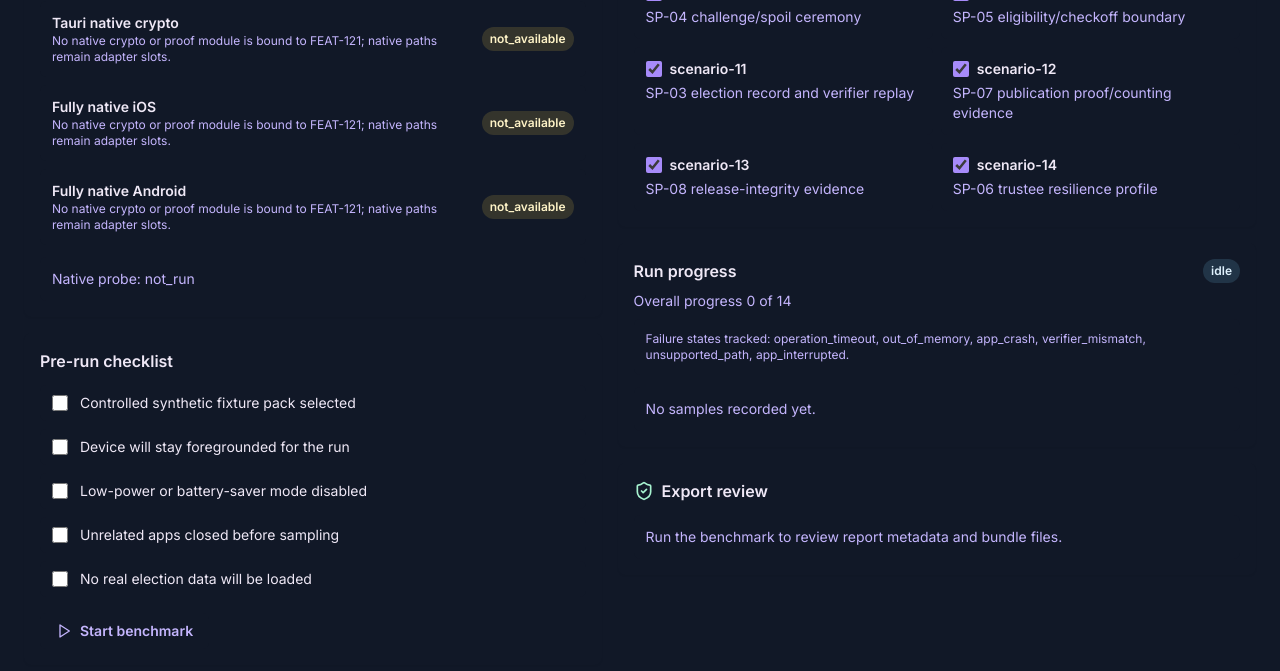
MobileBenchmarkRunner › keeps unavailable implementation paths visible without enabling a performance run
The image size is (1280, 671).
(page scrolled)
Step 1. Click the checkbox labelled "Controlled synthetic fixture pack selected" → point(60, 403), box [52,395,68,411]
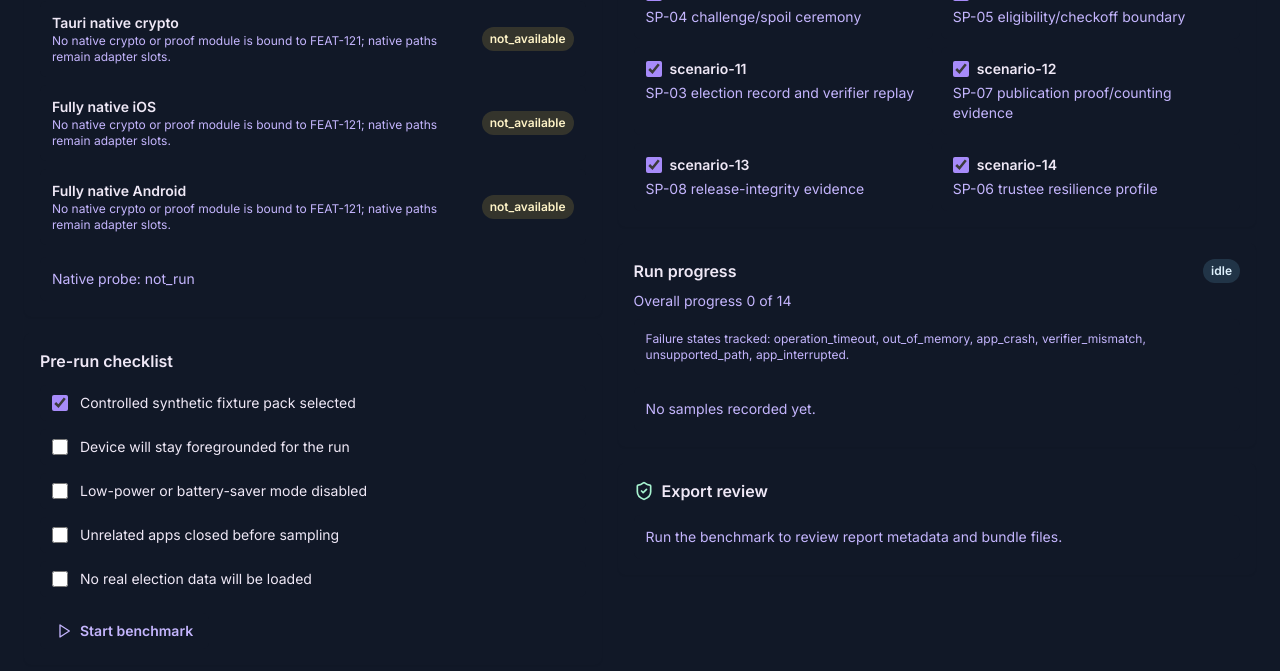
Step 2. Click the checkbox labelled "Device will stay foregrounded for the run" → point(60, 447), box [52,439,68,455]
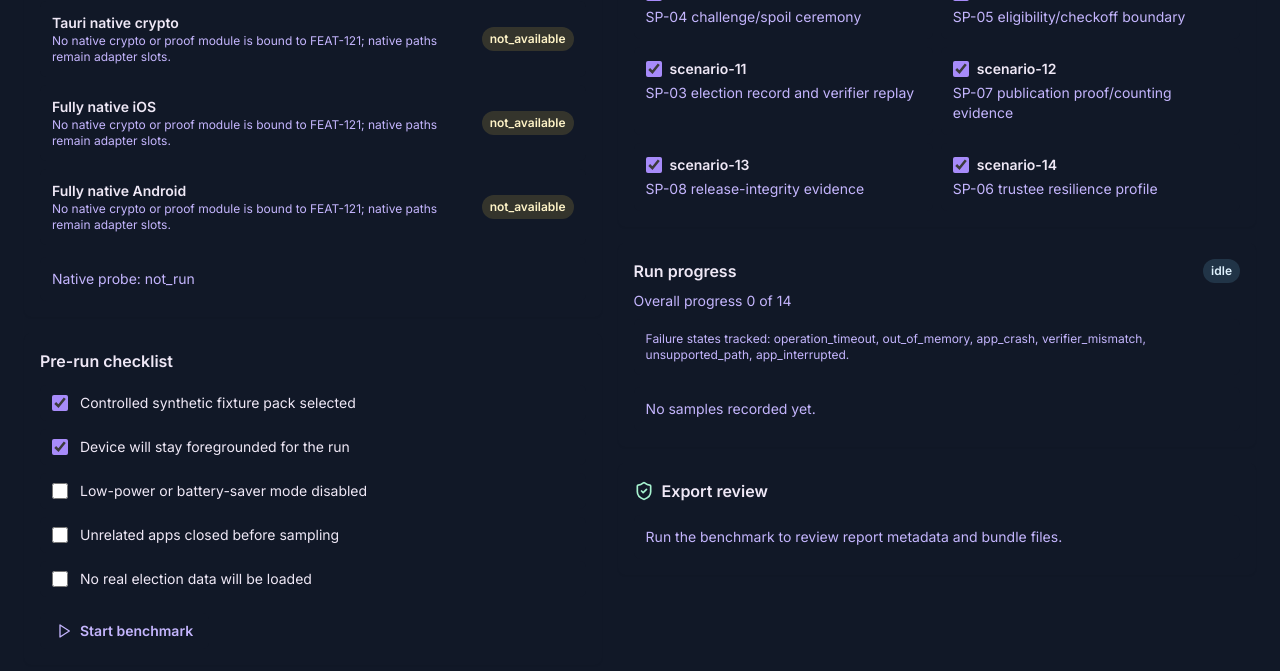
Step 3. Click the checkbox labelled "Low-power or battery-saver mode disabled" → point(60, 491), box [52,483,68,499]
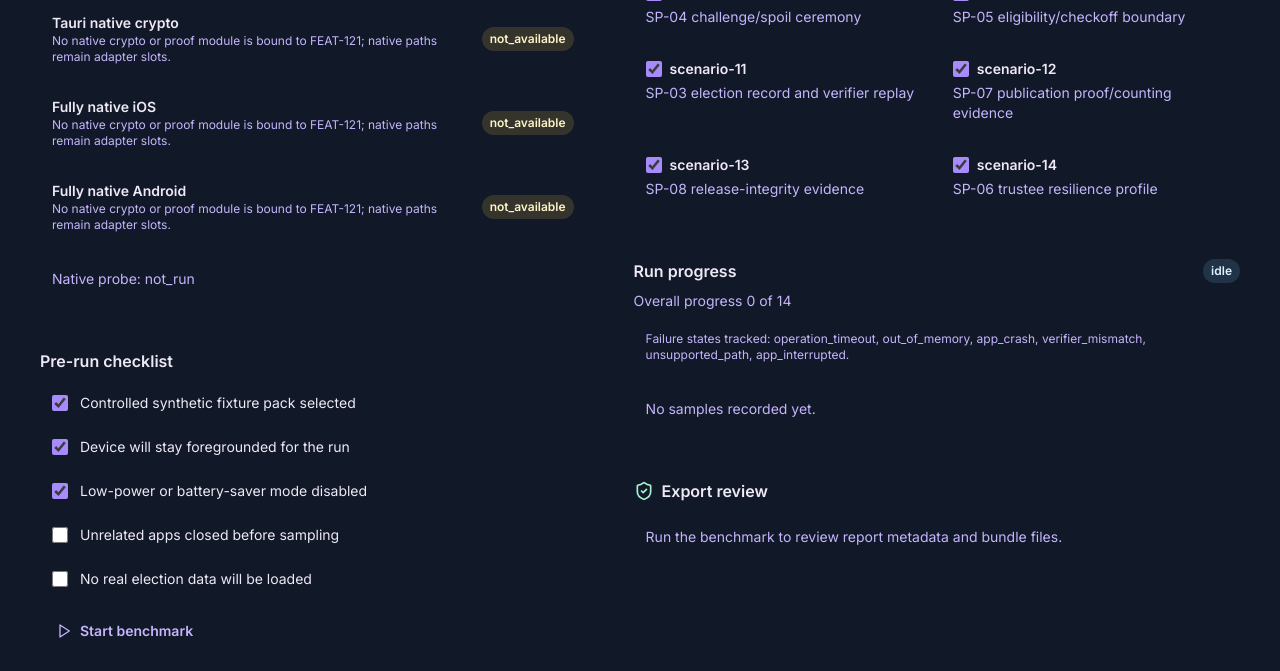
Step 4. Click the checkbox labelled "Unrelated apps closed before sampling" → point(60, 535), box [52,527,68,543]
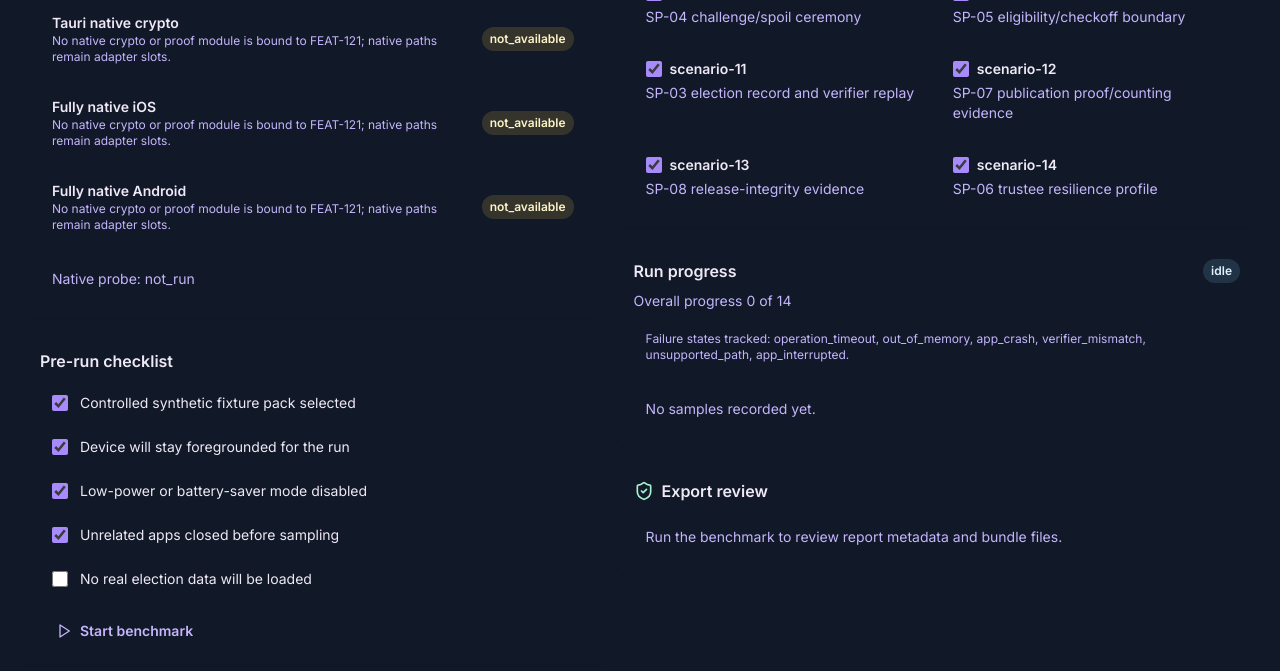
Step 5. Click the checkbox labelled "No real election data will be loaded" → point(60, 579), box [52,571,68,587]
(page scrolled)
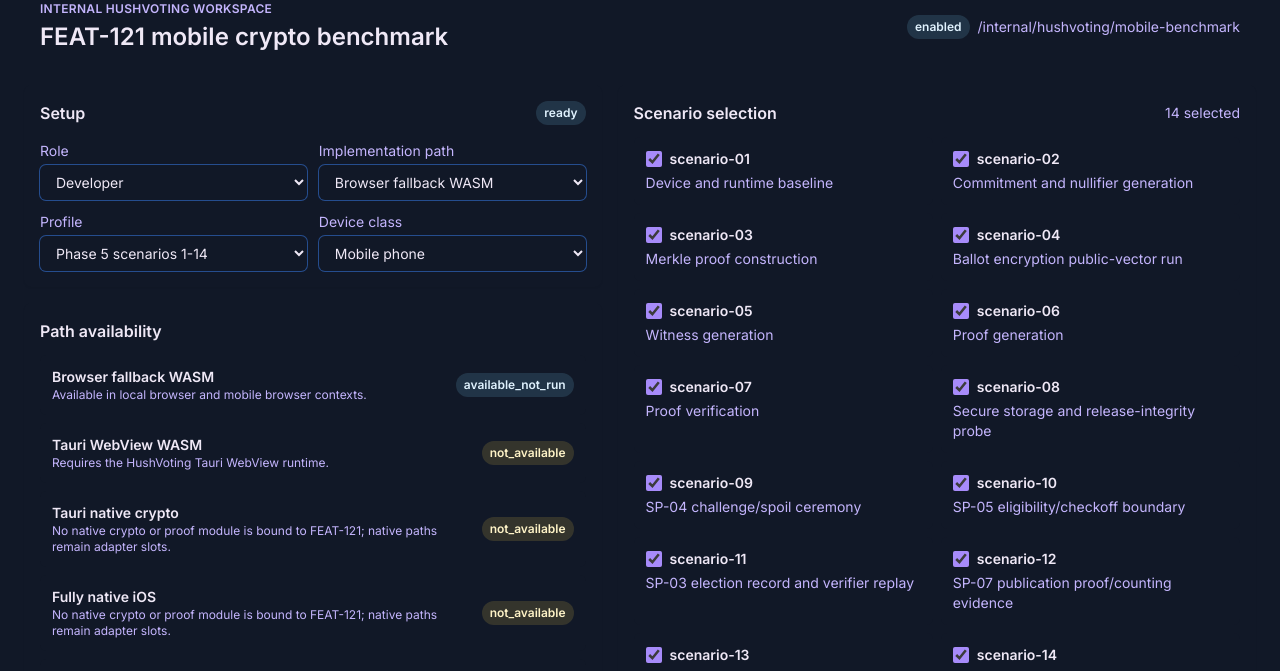
Step 6. Select "Fully native iOS" in the dropdown labelled "Implementation path" → point(452, 182), box [319,165,586,200]
(page scrolled)
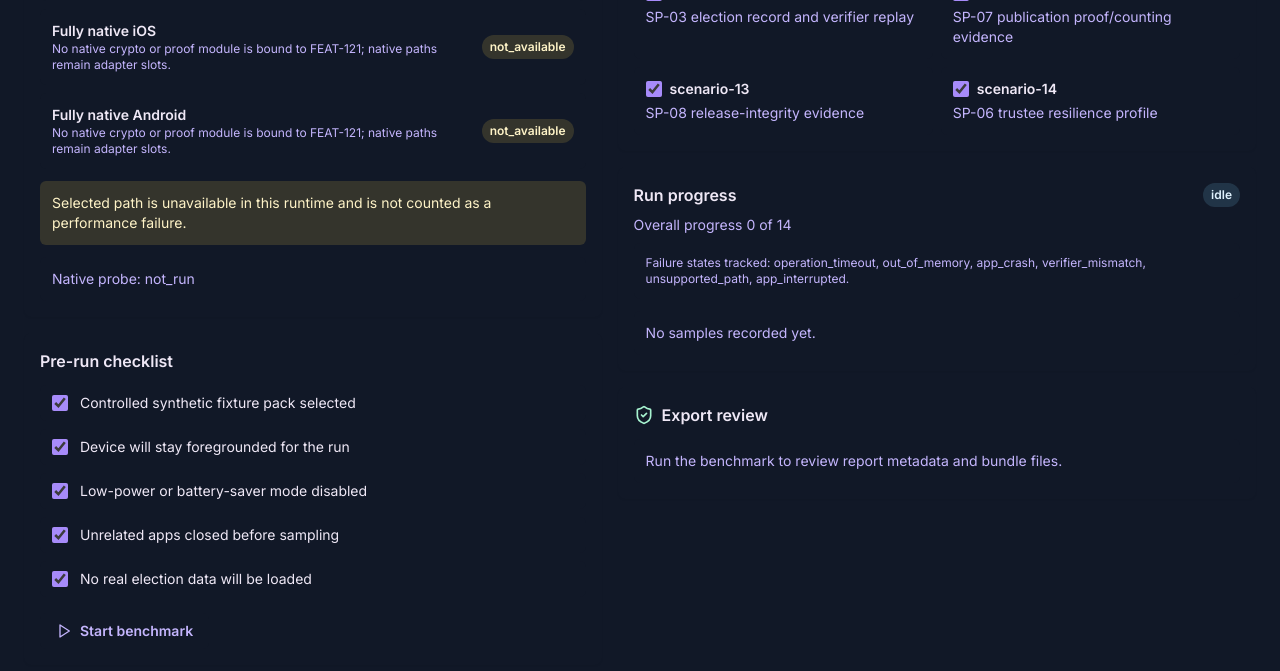
Result: the text with test id "mobile-benchmark-unsupported-path" shows "not counted as a performance failure" at [52,194,492,231]
Result: the button with test id "mobile-benchmark-start" is disabled at [40,613,209,649]
